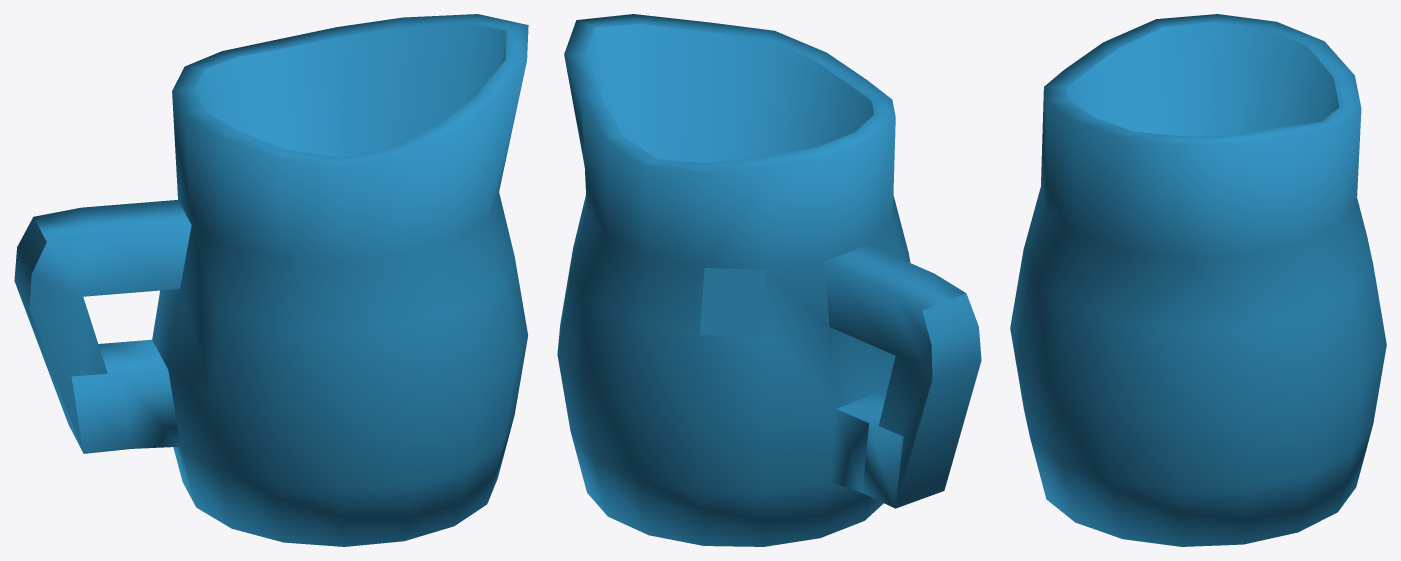
The model's file is JARRA.fbx.
3 views of the same model, side by side, from view 1: azimuth 30°, elevation 25°; view 2: azimuth 150°, elevation 25°; view 3: azimuth 270°, elevation 25° (orthographic). The views are drawn at different scales.
Visible parts, largest first — view 1: Cylinder.022; view 2: Cylinder.022; view 3: Cylinder.022.
Boxes of the visible parts, x1,y1,x2,y2 form: Cylinder.022: (14,14,528,546); Cylinder.022: (557,14,981,546); Cylinder.022: (1010,14,1386,546).
Size of the model in its own units: 134 by 118 by 95.36.
